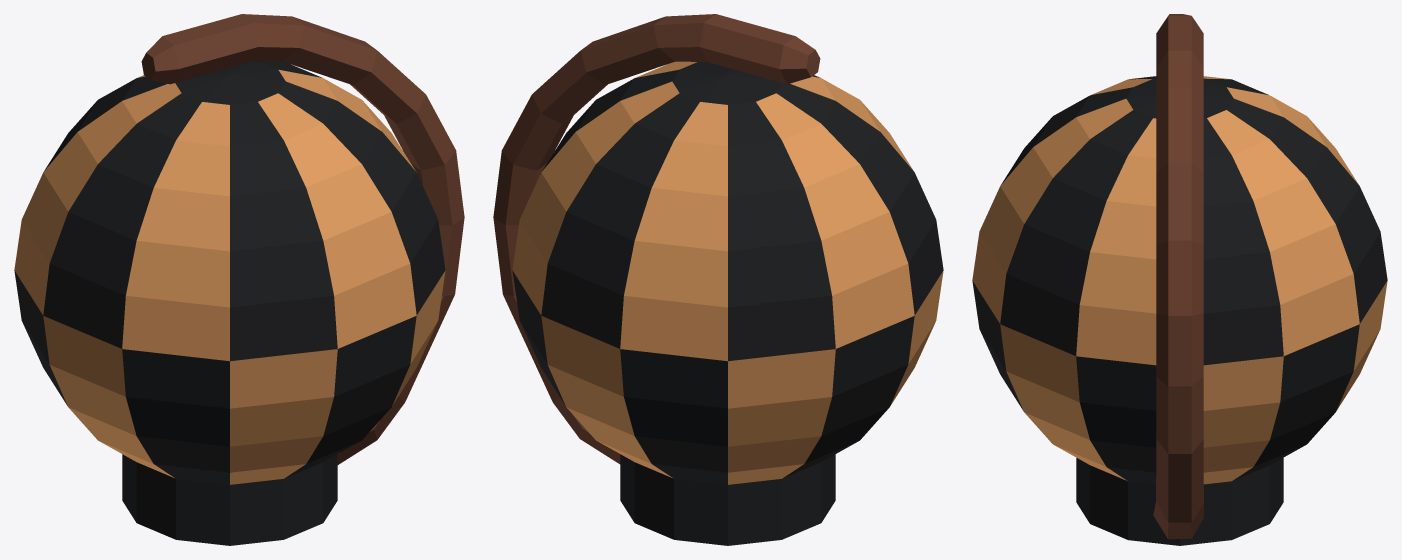
The model's file is Shell_3inch_DummyShell.fbx.
3 renders of one model, left to right at view 1: azimuth 30°, elevation 25°; view 2: azimuth 150°, elevation 25°; view 3: azimuth 270°, elevation 25°, orthographic. The views are drawn at different scales.
Visible parts, largest first — view 1: Shell_DummyShell; view 2: Shell_DummyShell; view 3: Shell_DummyShell.
Part boxes in pixels (<box>): Shell_DummyShell: <box>14,14,464,545</box>; Shell_DummyShell: <box>493,14,943,545</box>; Shell_DummyShell: <box>972,14,1387,545</box>.
Bounding box in the file's own units: 8.47 × 9.69 × 7.62.
